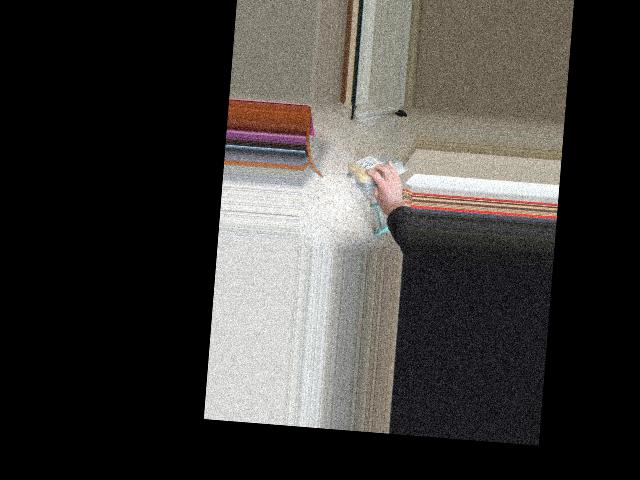cheese: (346, 152, 409, 187)
